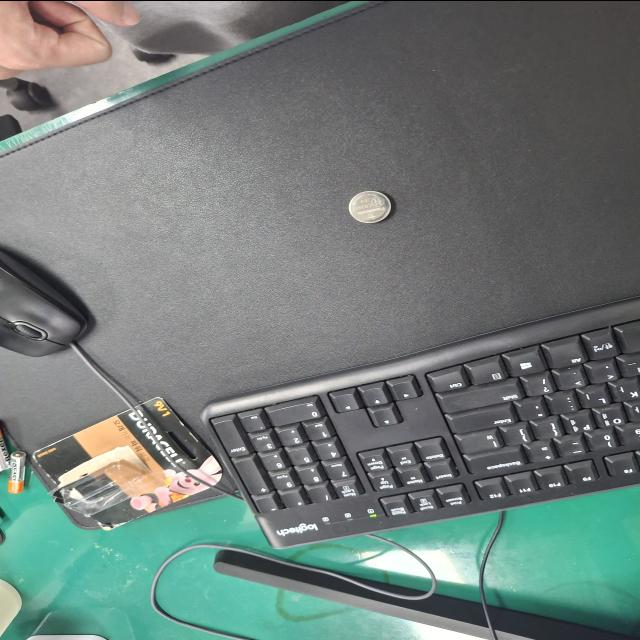AAA: (601, 620, 640, 635)
COIN: (253, 346, 296, 378)
